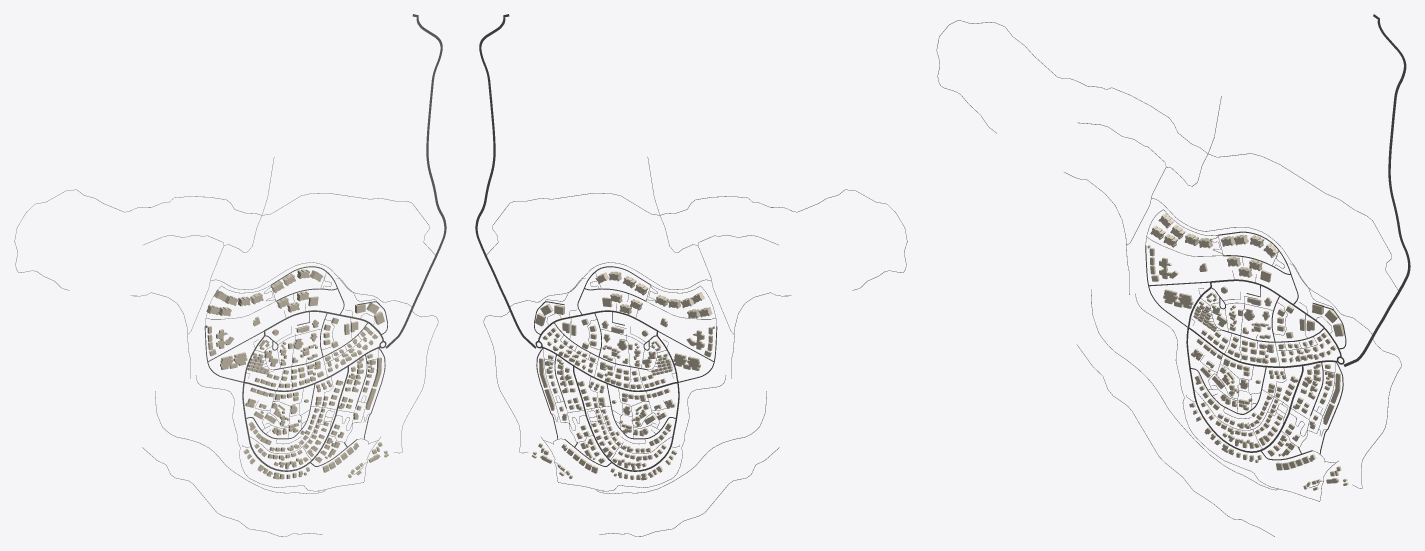
The model's file is historic-palestine-11_27_3526_3219.glb.
The picture shows the model from 3 angles, left to right: view 1: azimuth 30°, elevation 25°; view 2: azimuth 150°, elevation 25°; view 3: azimuth 330°, elevation 25°; orthographic projection. The views are drawn at different scales.
Visible parts, largest first — view 1: Road 5072, Road .069; view 2: Road 5072, Road .069; view 3: Road 5072, Road .069, Road איתן.
Part boxes in pixels (left/top/right/bottom): Road 5072: left=385, top=14, right=446, bottom=348; Road .069: left=14, top=189, right=435, bottom=290; Road 5072: left=475, top=14, right=536, bottom=348; Road .069: left=486, top=189, right=907, bottom=290; Road 5072: left=1343, top=14, right=1410, bottom=366; Road .069: left=936, top=20, right=1398, bottom=291; Road איתן: left=1186, top=328, right=1303, bottom=452.
Bounding box in the file's own units: 1529 × 1687 × 19.8.
